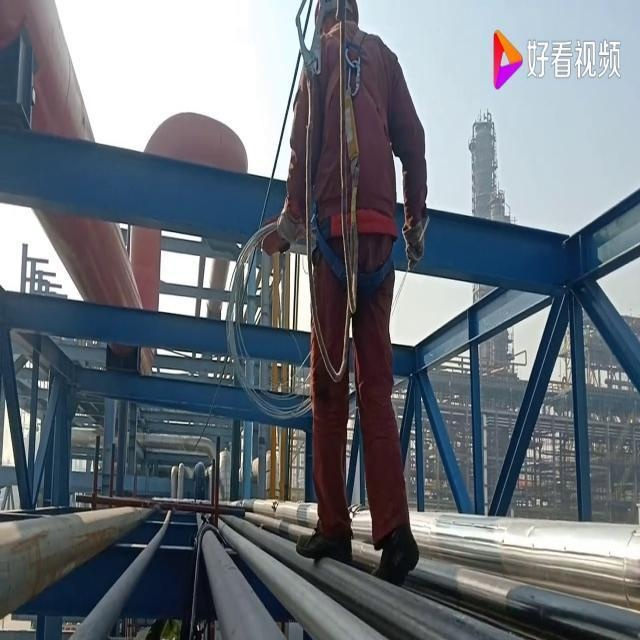Arnes_seguridad: (310, 16, 396, 153)
